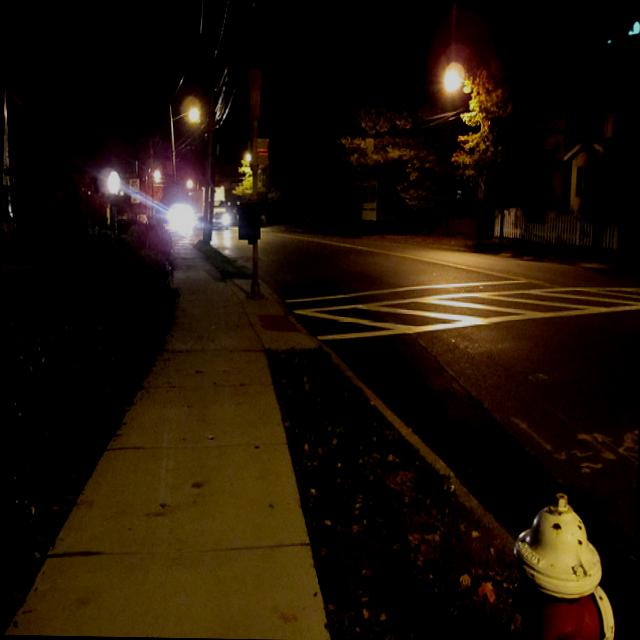Vehicle: (212, 210, 233, 230)
